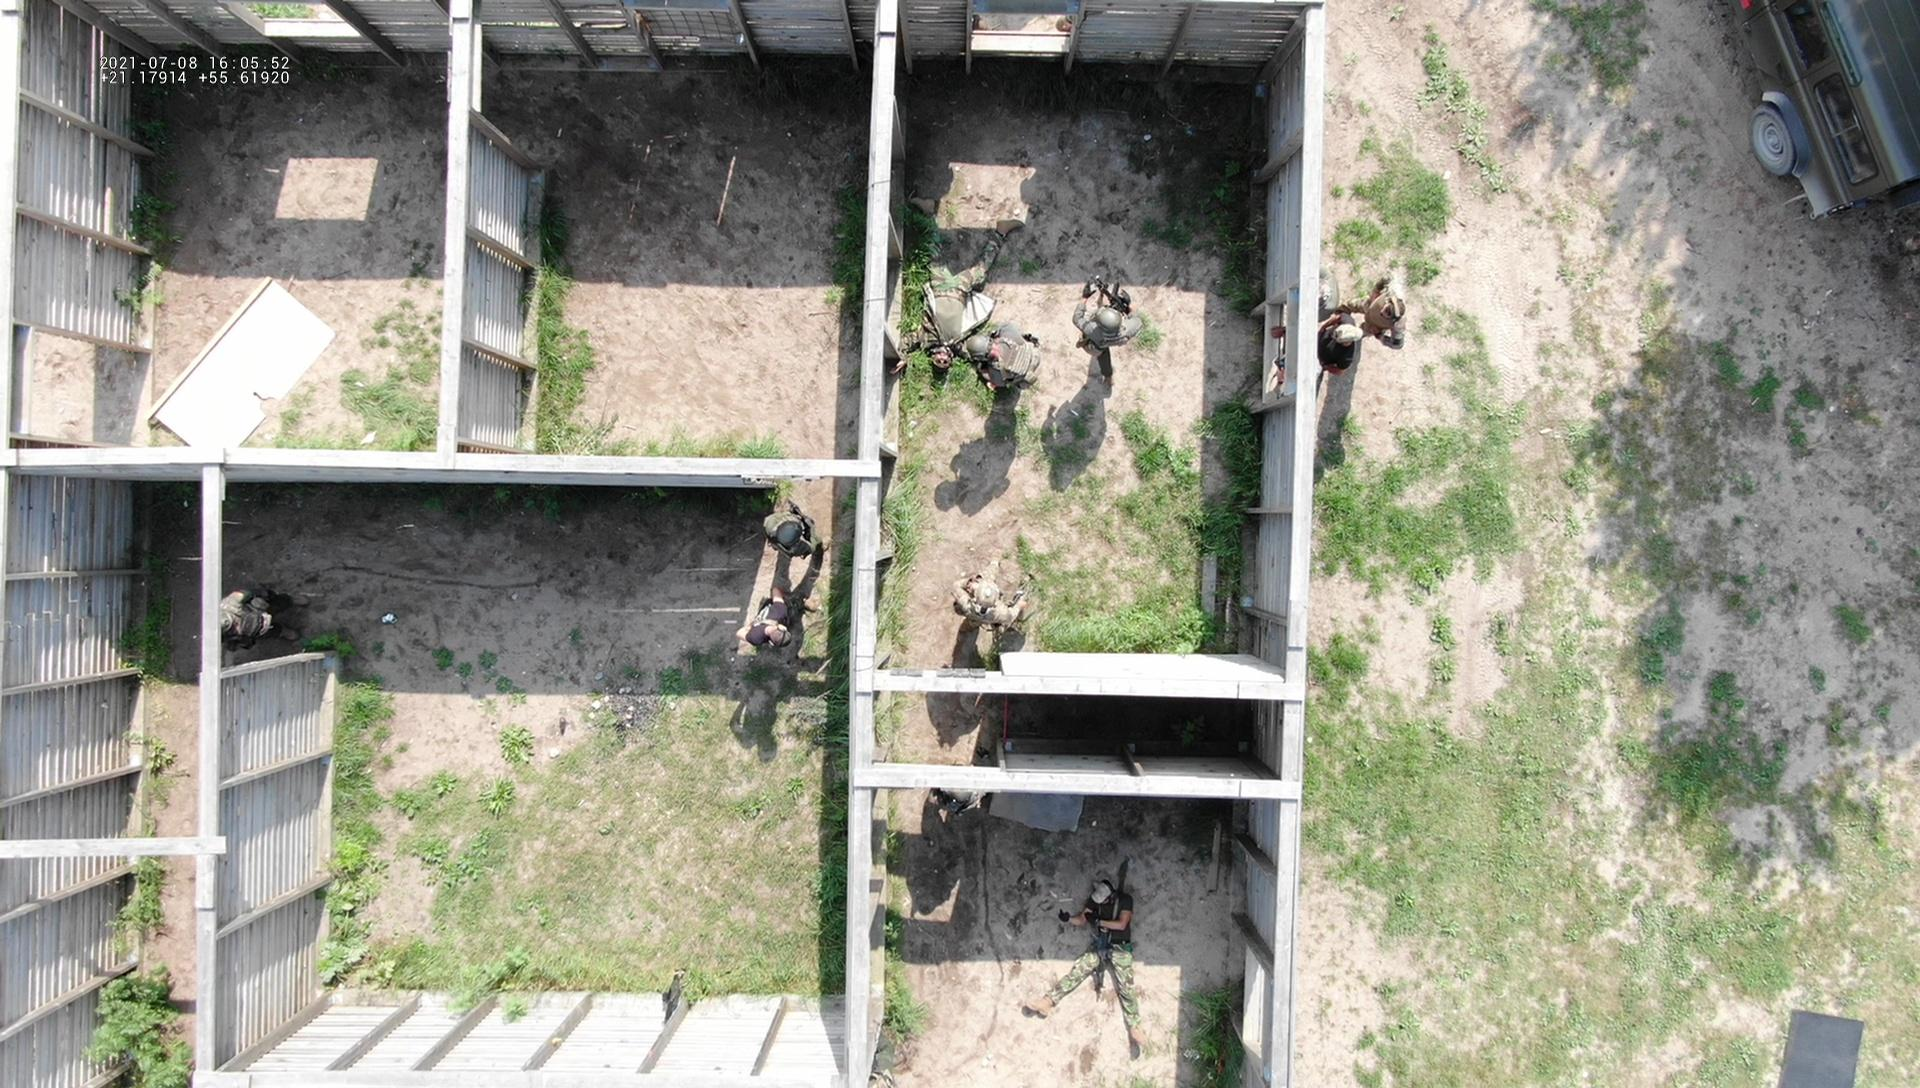Soldier: (1038, 872, 1193, 1041), (889, 196, 994, 385), (1058, 272, 1145, 363), (963, 319, 1048, 411), (219, 575, 303, 659), (761, 497, 841, 584), (945, 559, 1034, 632), (1353, 273, 1414, 357)
